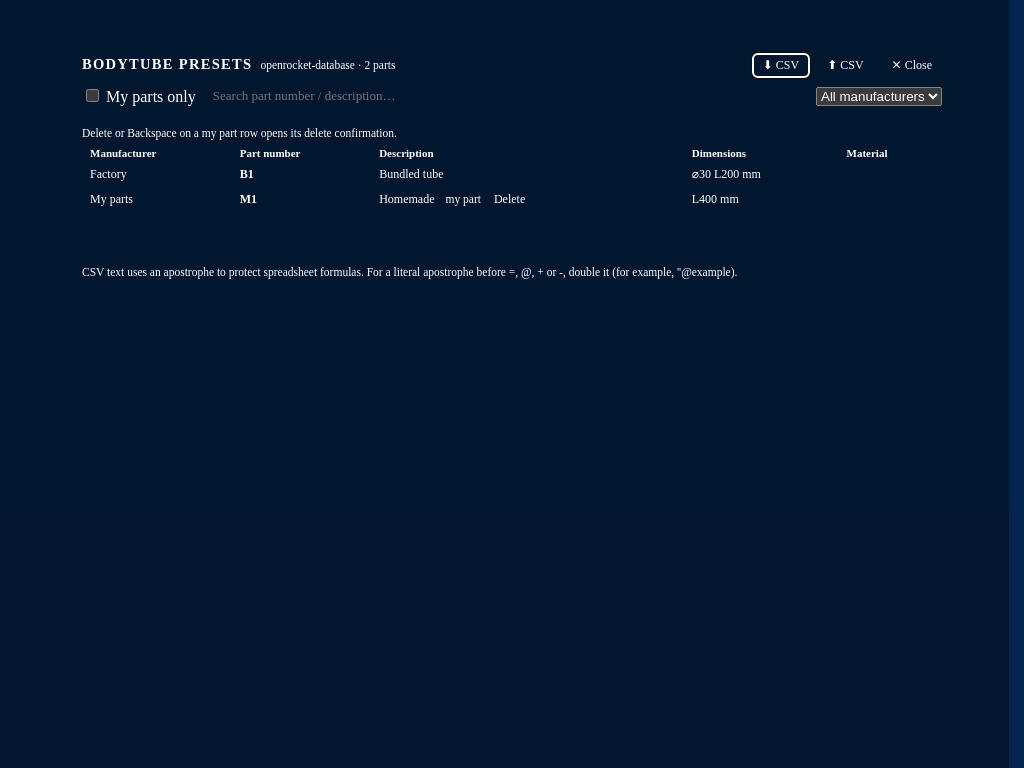
Scenario: M2.3 My parts picker › confirms once, cancels safely, deletes only the custom row and never applies it
Click the button with aria-label "Delete My part: My parts M1": (510, 200) [484,188,535,211]
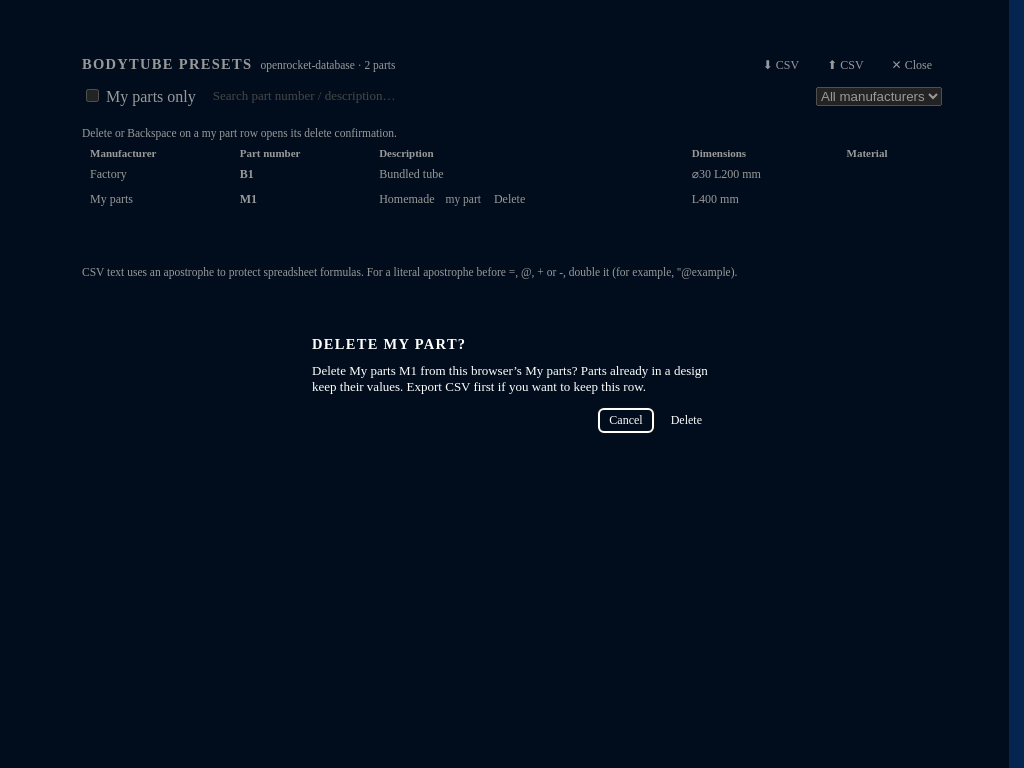
Expected: the dialog named "Delete My part" is shown, [292,318,732,450]
Click the button "Cancel": (626, 420) [599,409,653,432]
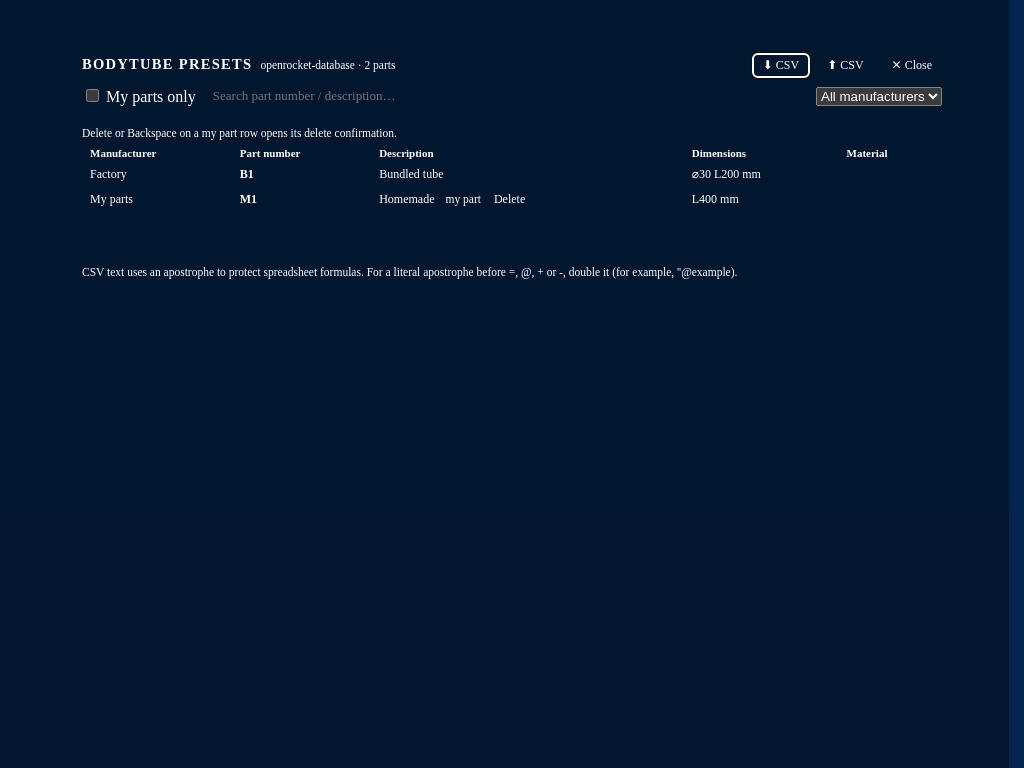
Click the button "Delete": (510, 200) [484,188,535,211]
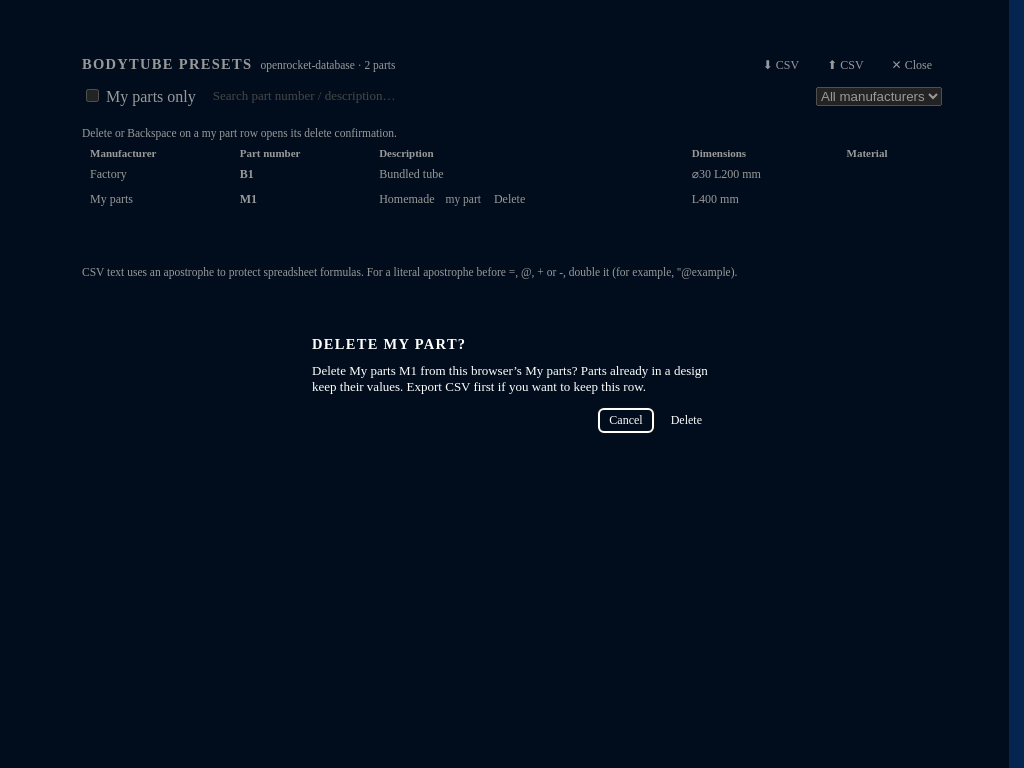
Click the button "Delete": (686, 420) [661,409,712,432]
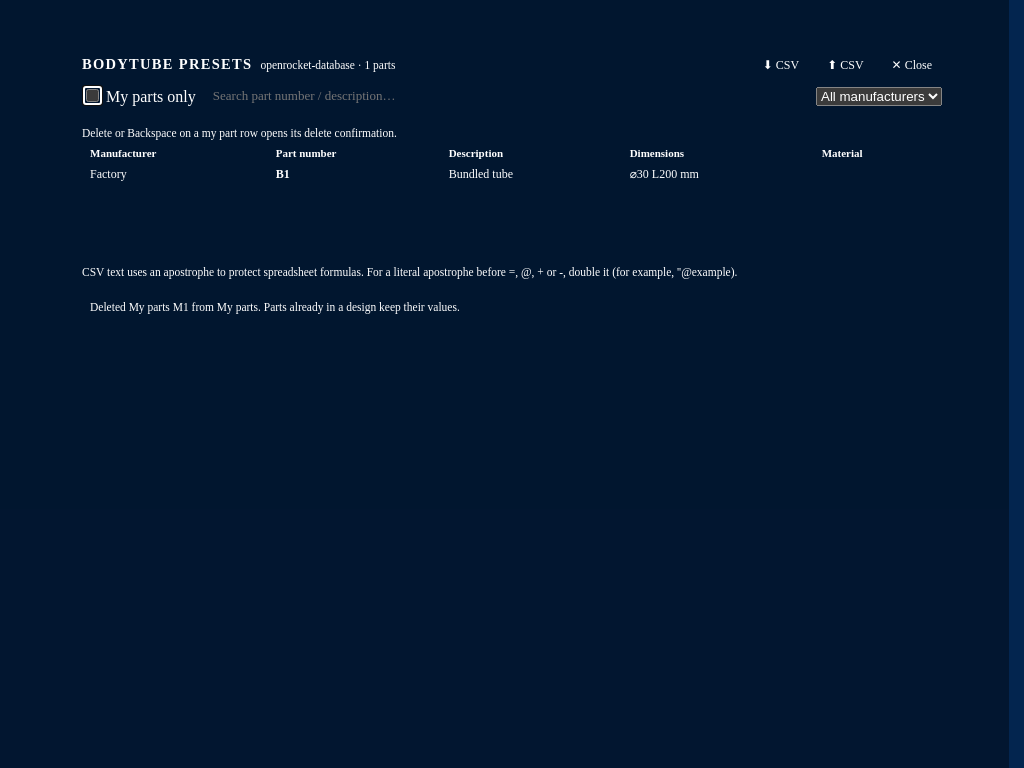
Expected: the cell "B1" is shown, [268,164,441,185]
Expected: the text "Deleted My parts M1" is shown, [90,301,460,313]
